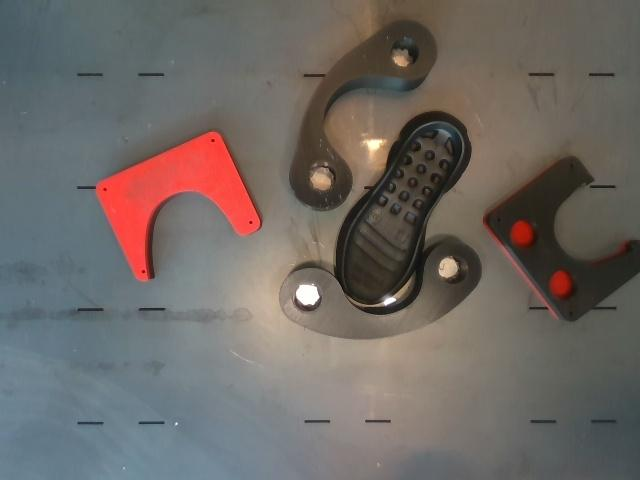shoes: (343, 123, 463, 304)
